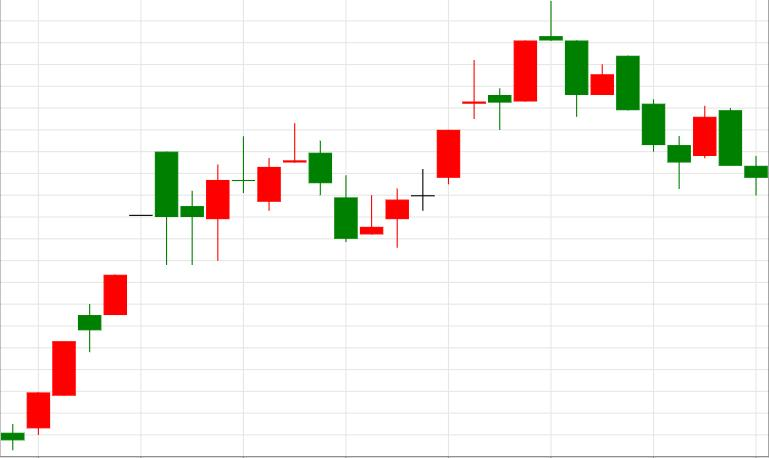evening_star_fall: (359, 0, 588, 249)
